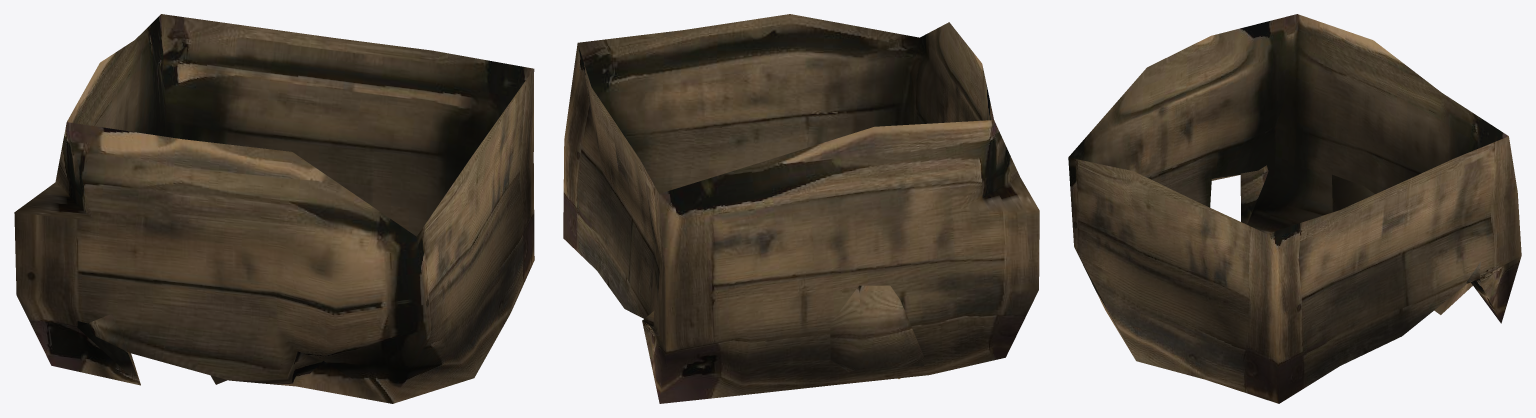
Rendered from crate-300.glb.
The picture shows the model from 3 angles, left to right: view 1: azimuth 30°, elevation 25°; view 2: azimuth 150°, elevation 25°; view 3: azimuth 270°, elevation 25°; orthographic projection. The views are drawn at different scales.
Visible parts, largest first — view 1: LOW; view 2: LOW; view 3: LOW.
Part boxes in pixels (bbox=[...]): LOW: bbox=[14, 14, 534, 403]; LOW: bbox=[563, 14, 1039, 403]; LOW: bbox=[1068, 14, 1521, 403].
Size of the model in its own units: 0.9855 by 0.5089 by 0.9103.
1 material, 1 textured.
